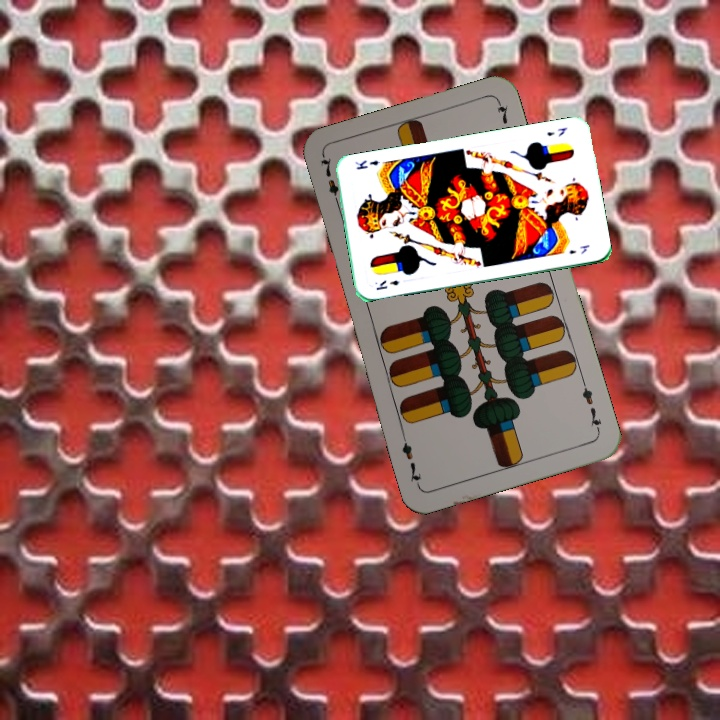E7: (316, 152, 343, 210), (578, 377, 604, 435)
EK: (372, 276, 402, 293), (543, 124, 569, 139)
